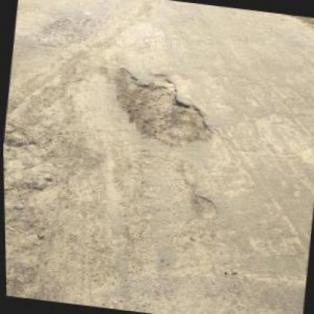Hueco: (106, 65, 222, 152), (189, 192, 221, 222)
